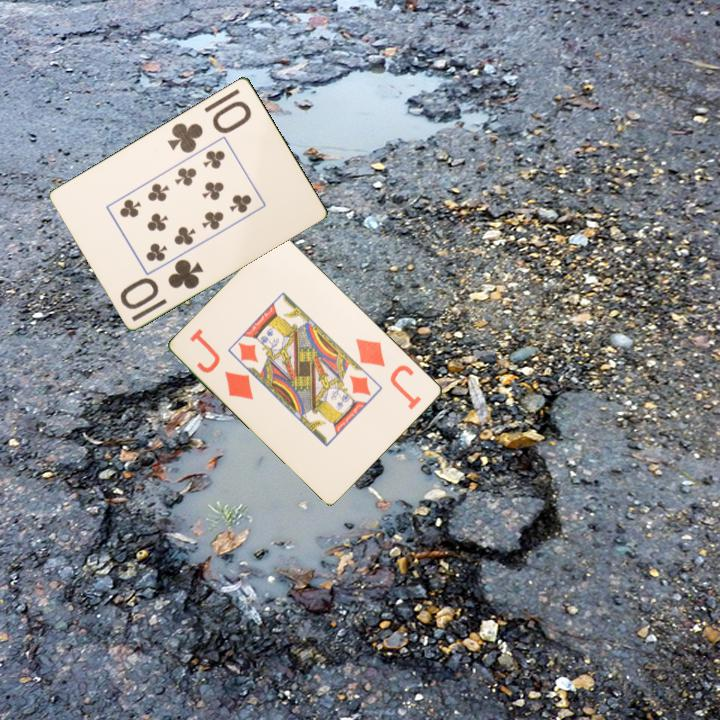10c: (164, 97, 255, 156), (117, 255, 207, 312)
Jd: (352, 335, 425, 413), (186, 324, 257, 403)
